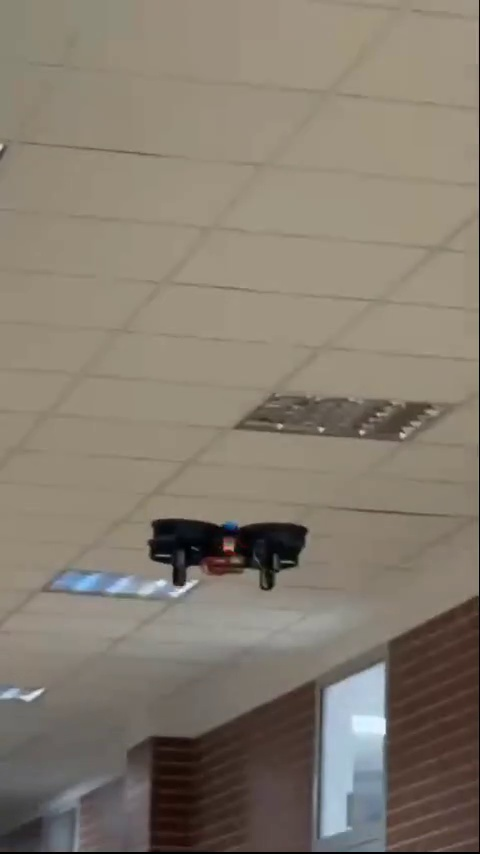drone: (146, 517, 306, 598)
